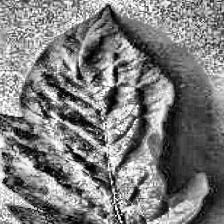spider mites: (0, 4, 207, 224)
